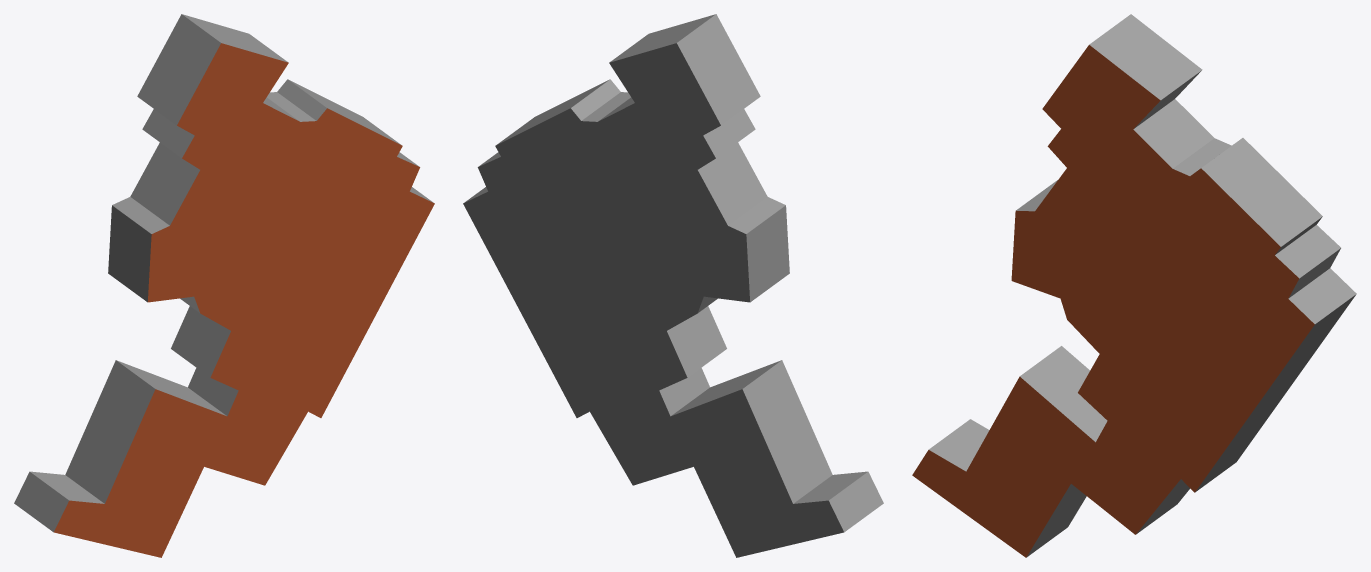
The model's file is construction_0873_assumed_A_Casa_h6m.obj.
3 views of the same model, side by side, from view 1: azimuth 30°, elevation 25°; view 2: azimuth 150°, elevation 25°; view 3: azimuth 330°, elevation 25° (orthographic). The views are drawn at different scales.
Parts seen in each view (by area): view 1: construction_0873_assumed_A_Casa; view 2: construction_0873_assumed_A_Casa; view 3: construction_0873_assumed_A_Casa.
Boxes of the visible parts, left/top/right/bottom form: construction_0873_assumed_A_Casa: left=14, top=14, right=434, bottom=557; construction_0873_assumed_A_Casa: left=463, top=14, right=883, bottom=557; construction_0873_assumed_A_Casa: left=912, top=14, right=1356, bottom=557.
Size of the model in its own units: 33.28 by 41.74 by 6.
